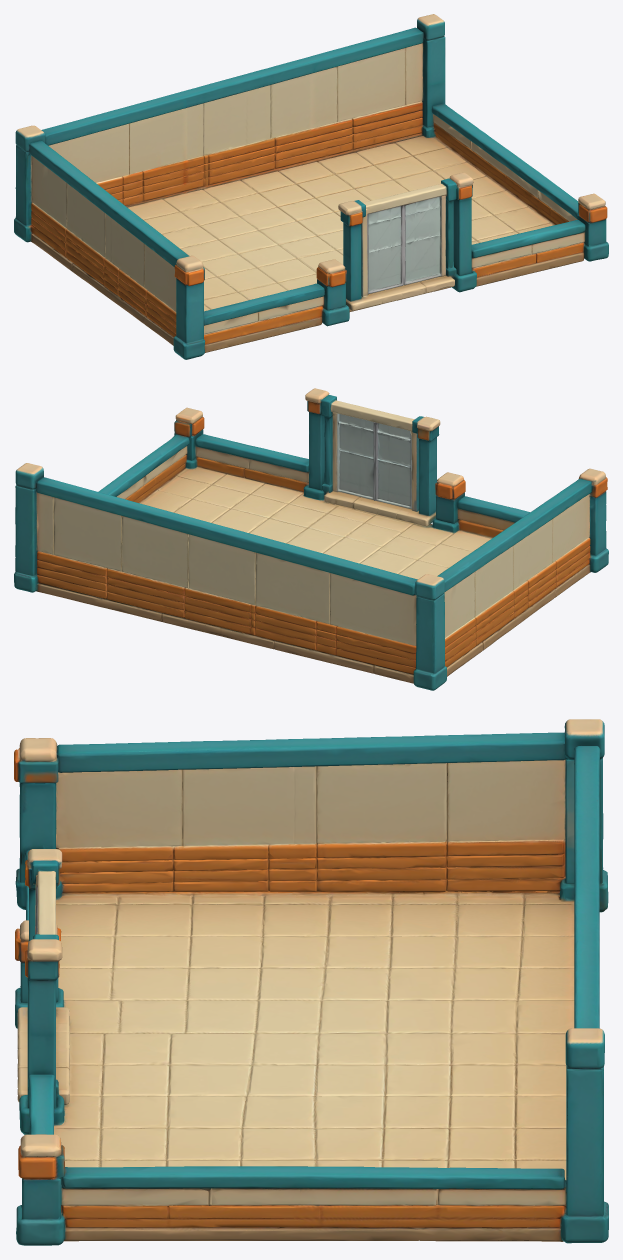
Rendered from MarketStructure.fbx.
3 renders of one model, top to bottom at view 1: azimuth 30°, elevation 25°; view 2: azimuth 150°, elevation 25°; view 3: azimuth 270°, elevation 25°, orthographic. The views are drawn at different scales.
Parts seen in each view (by area): view 1: tripo_node_e3203794-225d-4f5c-a528-25905f39e2f2; view 2: tripo_node_e3203794-225d-4f5c-a528-25905f39e2f2; view 3: tripo_node_e3203794-225d-4f5c-a528-25905f39e2f2.
Boxes of the visible parts, left/top/right/bottom form: tripo_node_e3203794-225d-4f5c-a528-25905f39e2f2: left=14, top=14, right=608, bottom=359; tripo_node_e3203794-225d-4f5c-a528-25905f39e2f2: left=14, top=388, right=608, bottom=690; tripo_node_e3203794-225d-4f5c-a528-25905f39e2f2: left=14, top=719, right=608, bottom=1245.
Size of the model in its own units: 98.03 by 26.54 by 69.87.
Materials: 1 (1 with a texture image).
